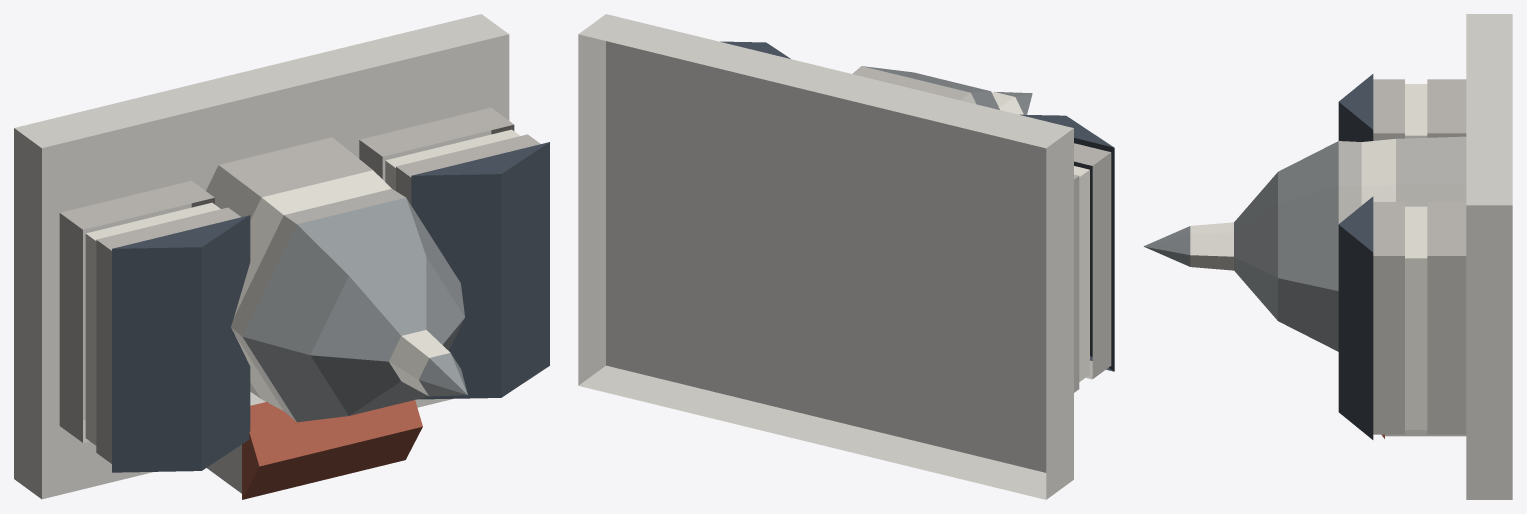
Rendered from capital_monument.obj.
3 renders of one model, left to right at view 1: azimuth 30°, elevation 25°; view 2: azimuth 150°, elevation 25°; view 3: azimuth 270°, elevation 25°, orthographic. The views are drawn at different scales.
Parts seen in each view (by area): view 1: capital_monument; view 2: capital_monument; view 3: capital_monument.
Part boxes in pixels (box(x1,y1,x2,y2)): capital_monument: box(14, 14, 549, 499); capital_monument: box(578, 14, 1114, 499); capital_monument: box(1143, 14, 1512, 499).
Size of the model in its own units: 0.78 by 0.5635 by 0.6366.
